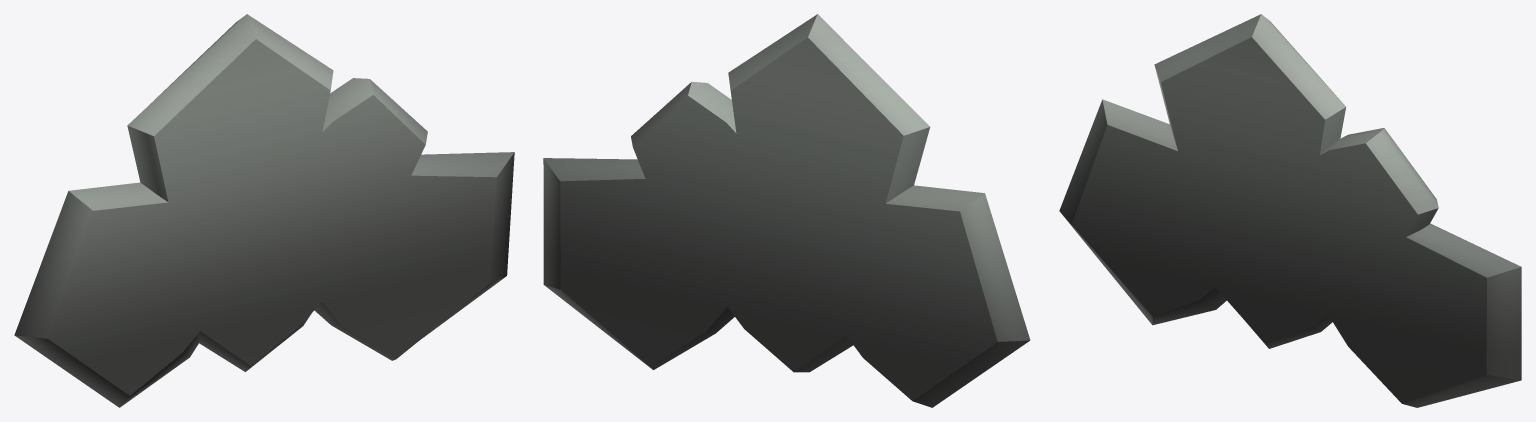
File: cloud2.fbx
3 views of the same model, side by side, from view 1: azimuth 30°, elevation 25°; view 2: azimuth 150°, elevation 25°; view 3: azimuth 330°, elevation 25° (orthographic). The views are drawn at different scales.
Visible parts, largest first — view 1: cloud2Transform; view 2: cloud2Transform; view 3: cloud2Transform.
Part boxes in pixels (bbox=[...]): cloud2Transform: bbox=[14, 14, 514, 407]; cloud2Transform: bbox=[543, 14, 1030, 407]; cloud2Transform: bbox=[1059, 14, 1521, 407].
Bounding box in the file's own units: 4.54 × 3.43 × 0.4856.
